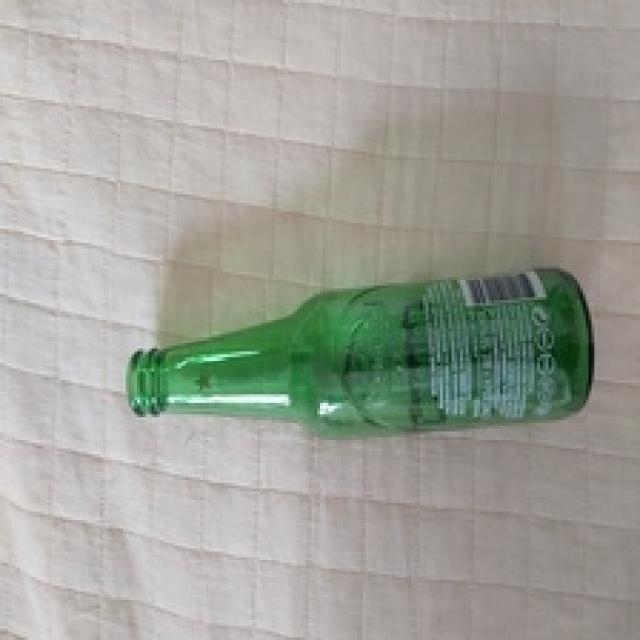Glass: (125, 262, 594, 440)
